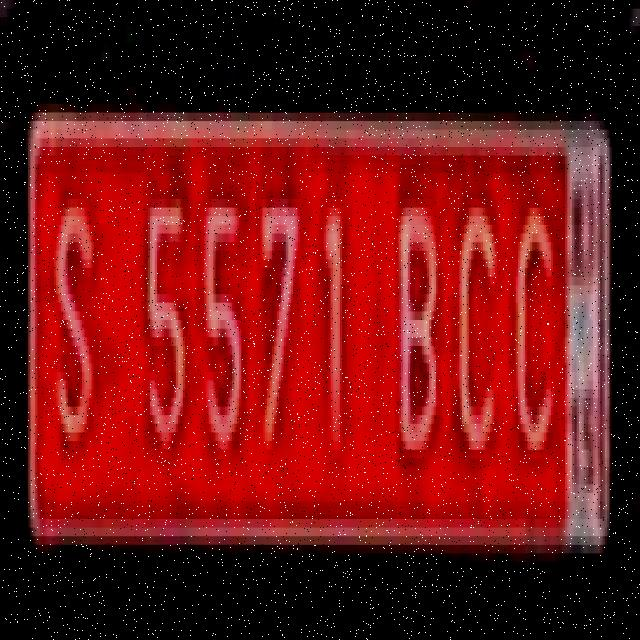licenseplate: (26, 104, 608, 560)
